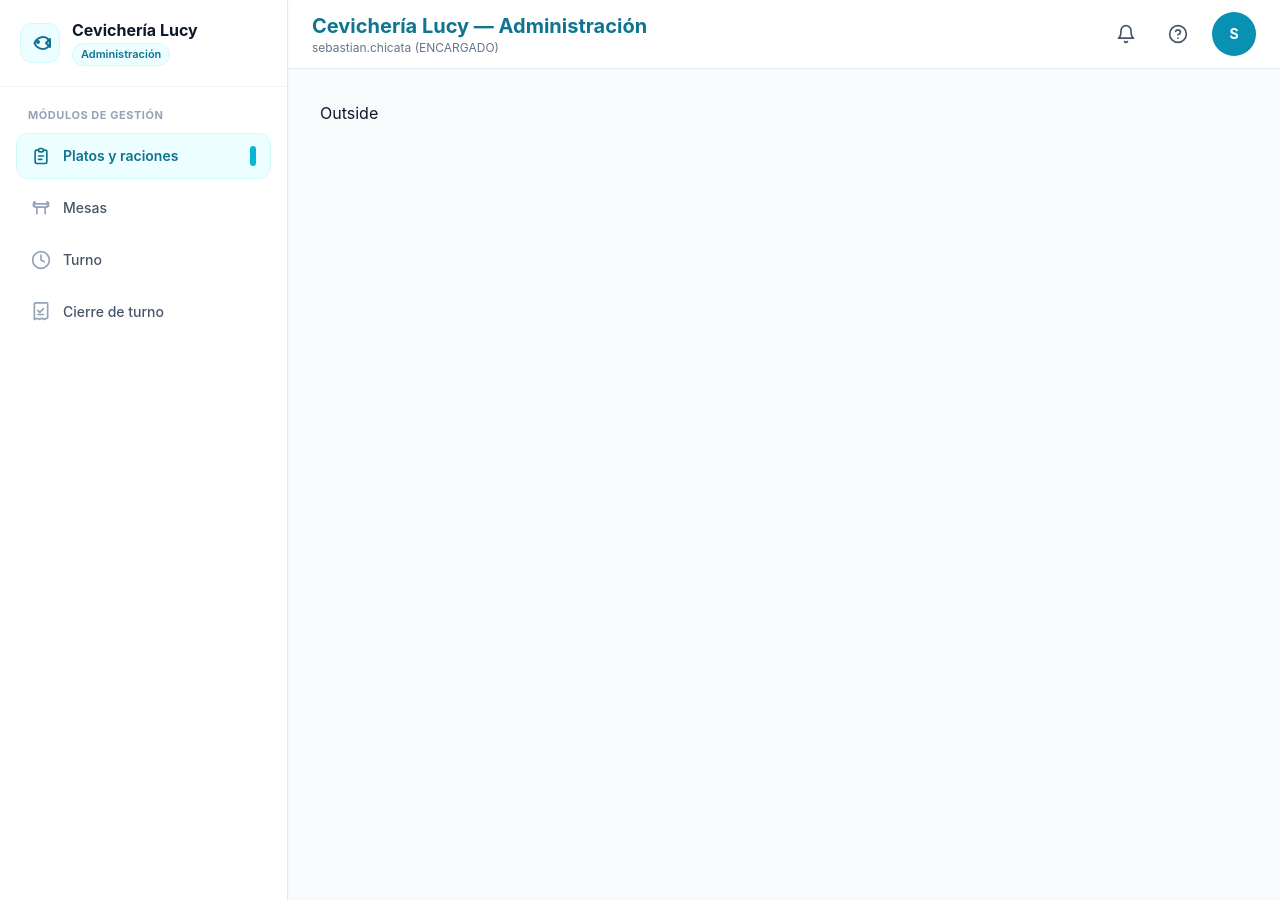
Scenario: AdminLayout Component › closes dropdown when clicking outside
Click the button named "Menú de usuario": [1234, 34] box [1212,12,1256,56]
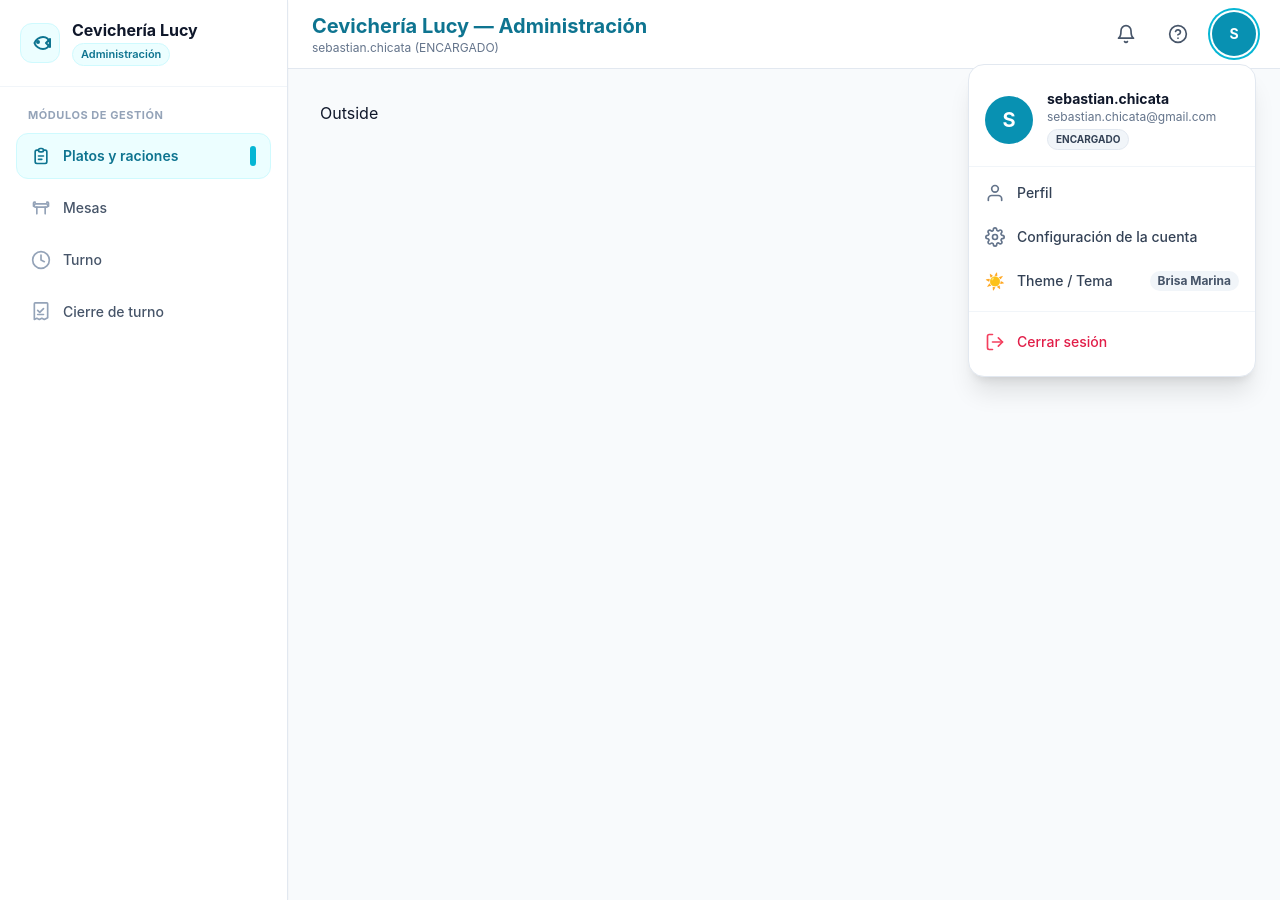
Expected: the menu is shown, [968,64,1256,377]
Click outside
Press the mouse on the text with test id "outside-area": [349, 113] box [320,103,378,123]
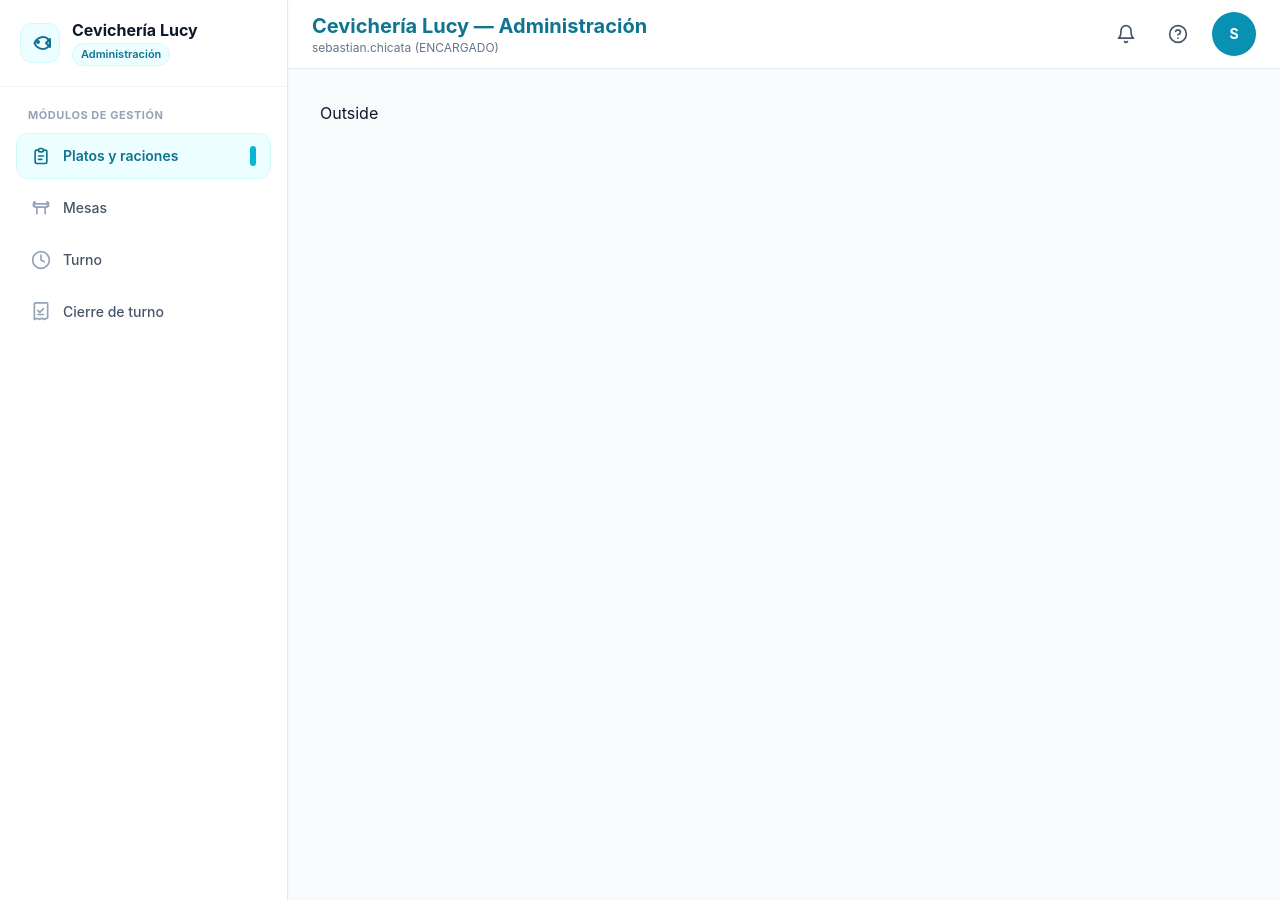
Expected: the menu is gone
